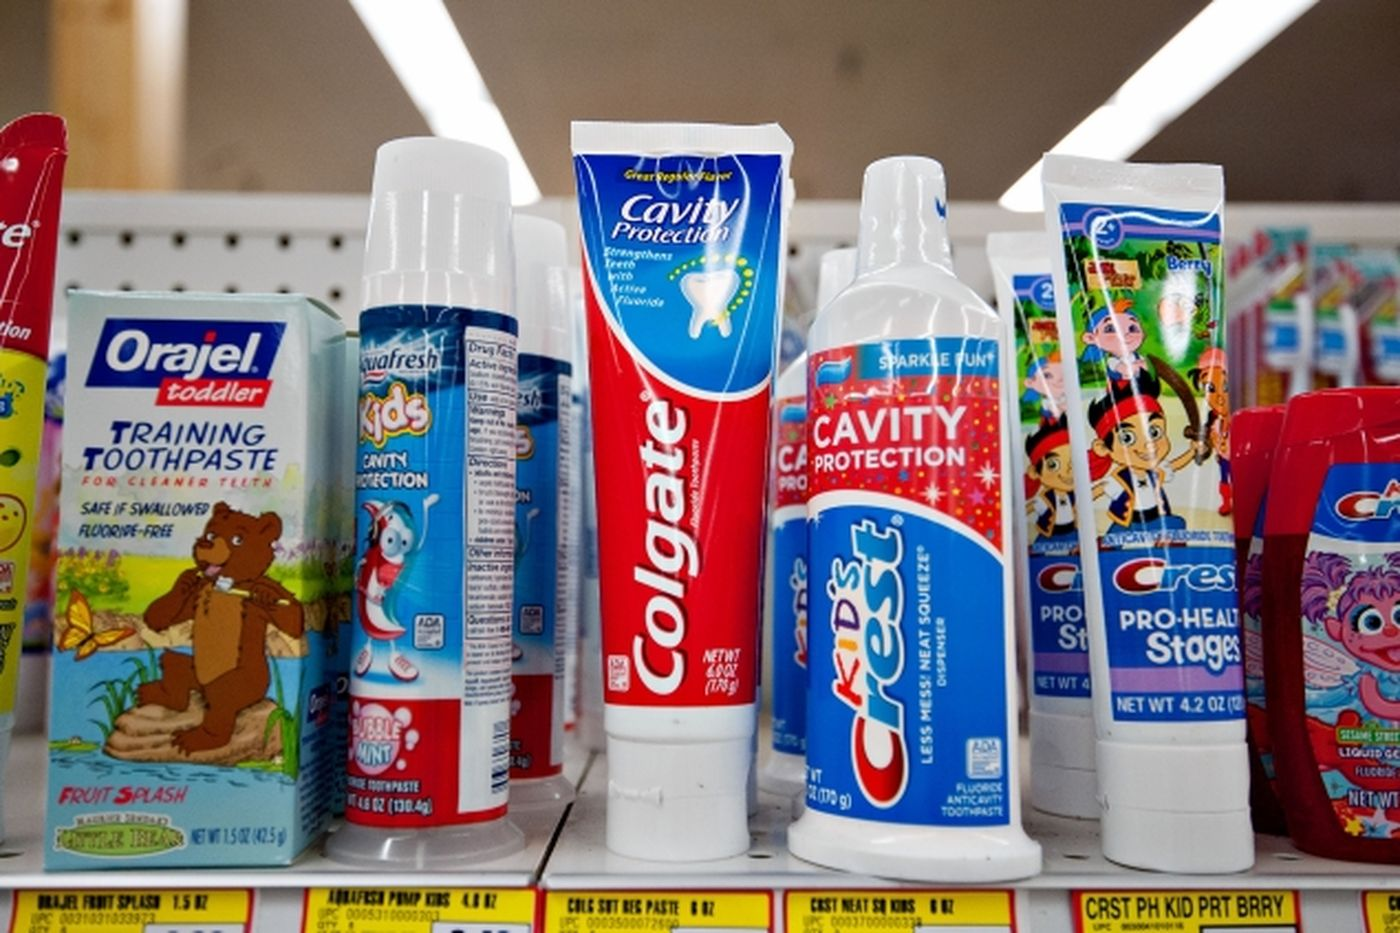Nonrec_Plastic: (780, 138, 1063, 866), (321, 114, 555, 857), (554, 85, 772, 844), (1033, 149, 1248, 869)
